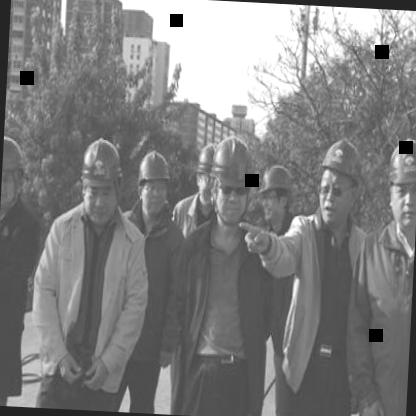helmet: (314, 134, 372, 232), (76, 134, 128, 227), (209, 130, 257, 226), (134, 148, 178, 224), (383, 135, 416, 236), (0, 128, 31, 222), (256, 160, 297, 226), (194, 141, 220, 213)
